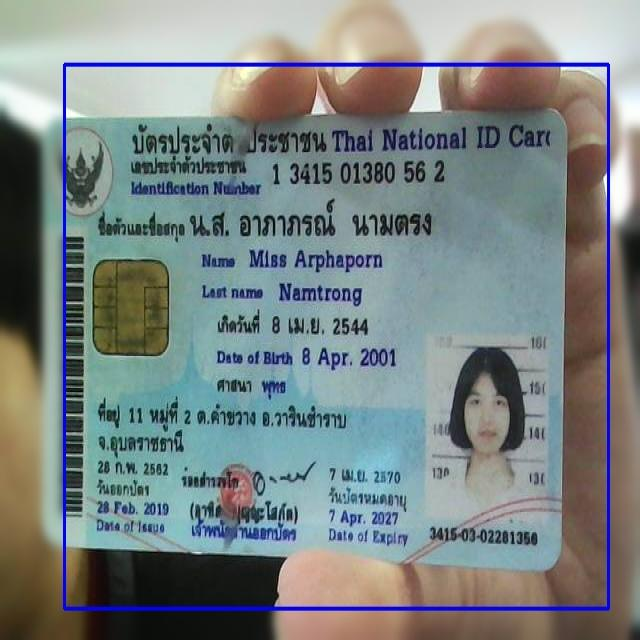Address_th: (90, 394, 352, 460)
Date_of_Birth: (298, 342, 402, 375)
Date_of_Expiry: (323, 504, 408, 530)
Date_of_Issue: (95, 496, 173, 522)
First_Name: (246, 243, 384, 276)
ID_Number: (268, 156, 450, 190)
Image: (427, 331, 547, 525)
Last_Name: (274, 278, 366, 309)
Thai_Name: (187, 196, 441, 245)
